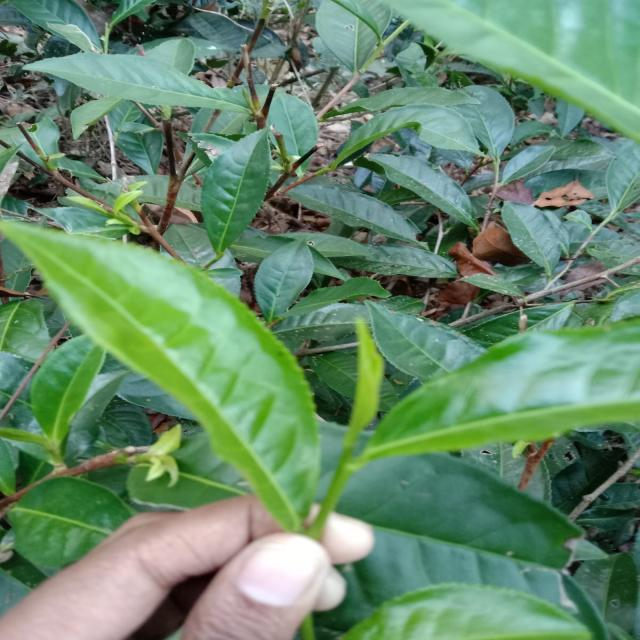Category C(4-7 days): (0, 196, 349, 540)
